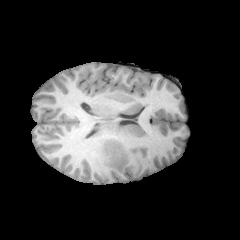glioma: (99, 125, 136, 173)
